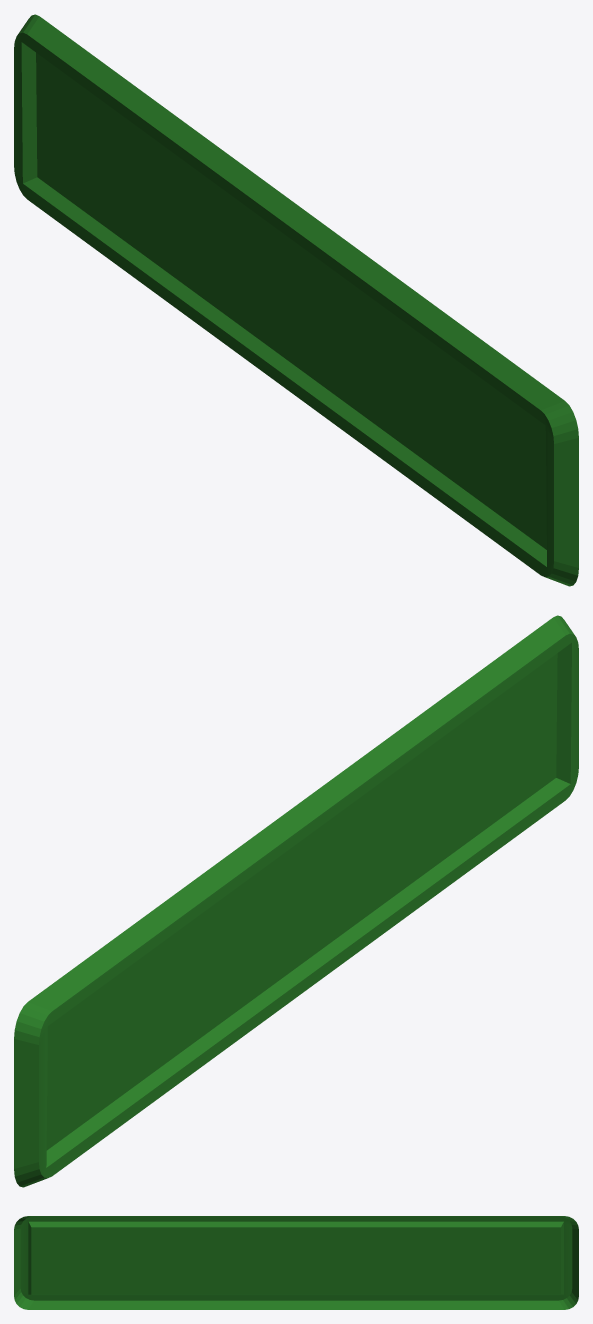
The model's file is Code_H_LCD.fbx.
3 renders of one model, top to bottom at view 1: azimuth 30°, elevation 25°; view 2: azimuth 150°, elevation 25°; view 3: azimuth 270°, elevation 25°, orthographic. The views are drawn at different scales.
Visible parts, largest first — view 1: Code_H_LCD; view 2: Code_H_LCD; view 3: Code_H_LCD.
Part boxes in pixels (box(x1,y1,x2,y2)): Code_H_LCD: box(14, 14, 578, 586); Code_H_LCD: box(14, 615, 578, 1187); Code_H_LCD: box(14, 1216, 578, 1309).
Size of the model in its own units: 0.6829 by 6.29 by 34.29.
